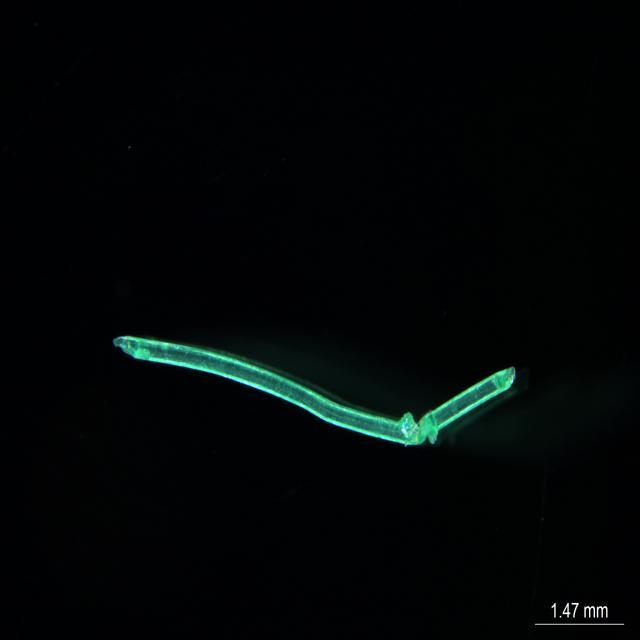fibers: (106, 335, 517, 454)
